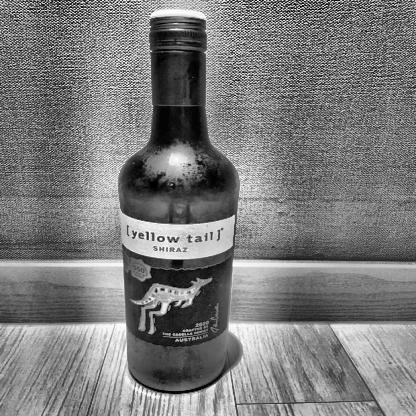yellowtail: (120, 216, 235, 349)
